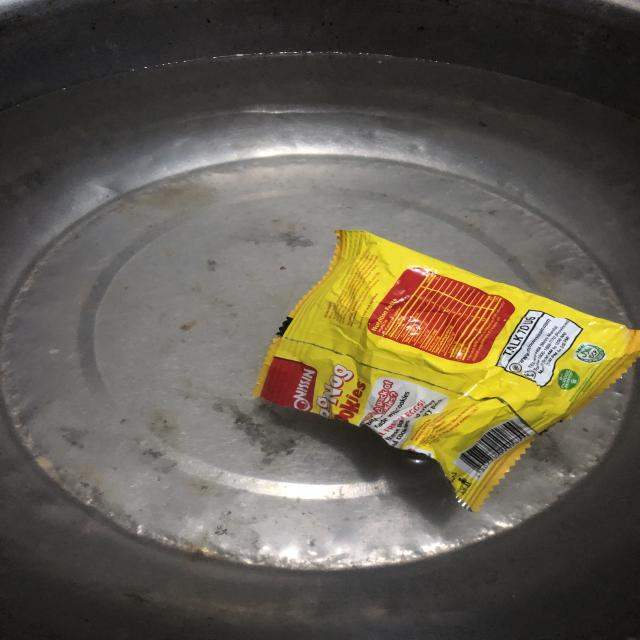Plastic Wrapper: (224, 206, 640, 519)
